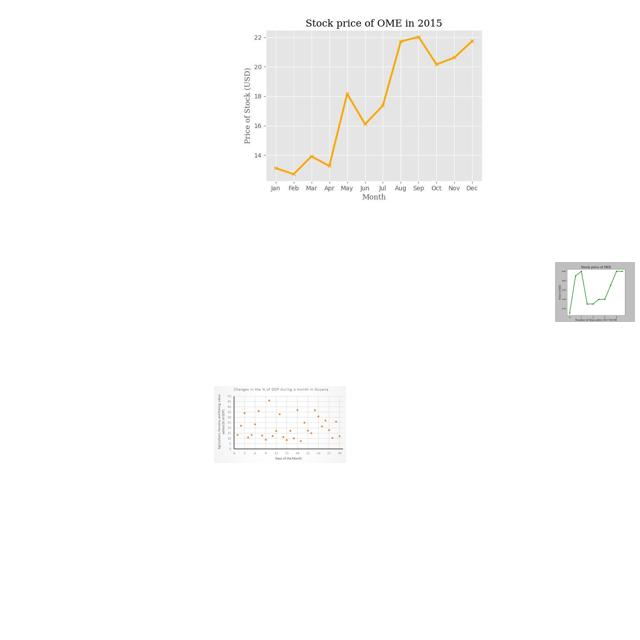Graph: (231, 0, 510, 209), (214, 386, 346, 463), (555, 262, 635, 322)
